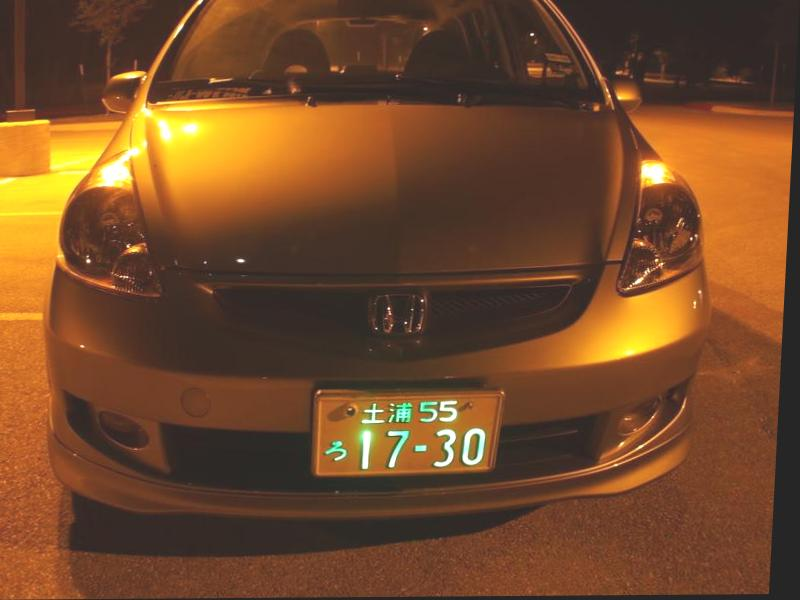License_Plate: (305, 381, 508, 483)
